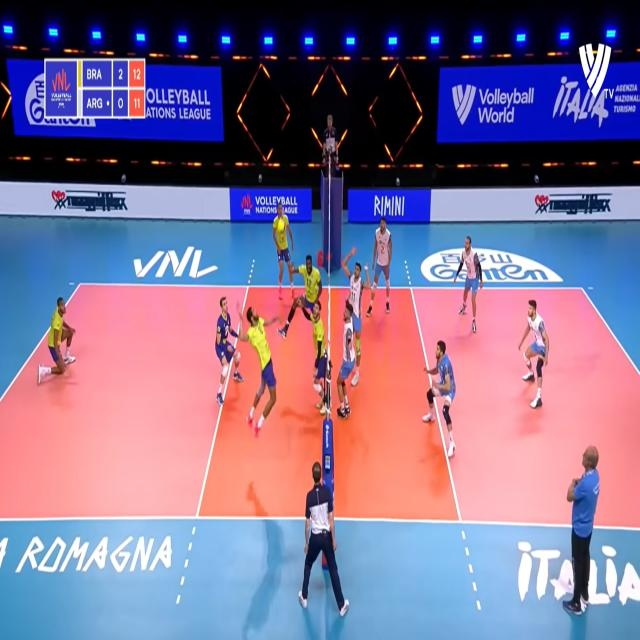player: (236, 300, 280, 439), (38, 294, 84, 383), (424, 341, 458, 457), (216, 289, 247, 405), (520, 295, 548, 408), (336, 298, 358, 425), (291, 252, 322, 341), (272, 203, 299, 302), (458, 233, 482, 336), (344, 250, 366, 340), (309, 295, 326, 411), (372, 214, 391, 307)
